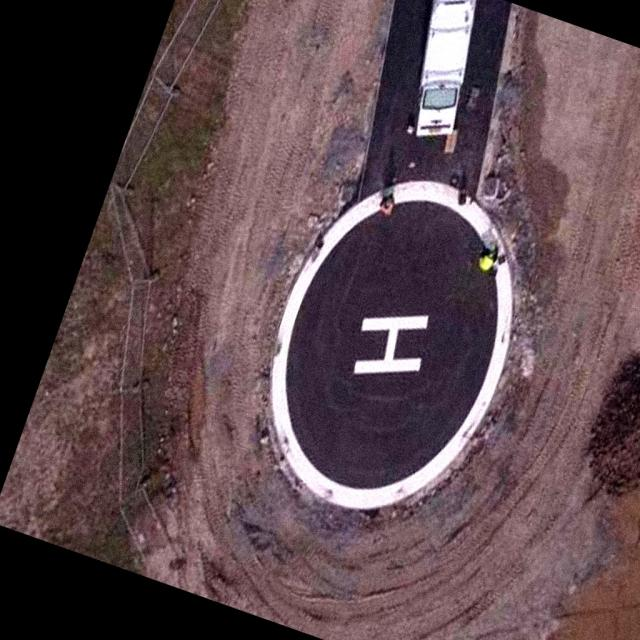helipad: (260, 176, 516, 514)
